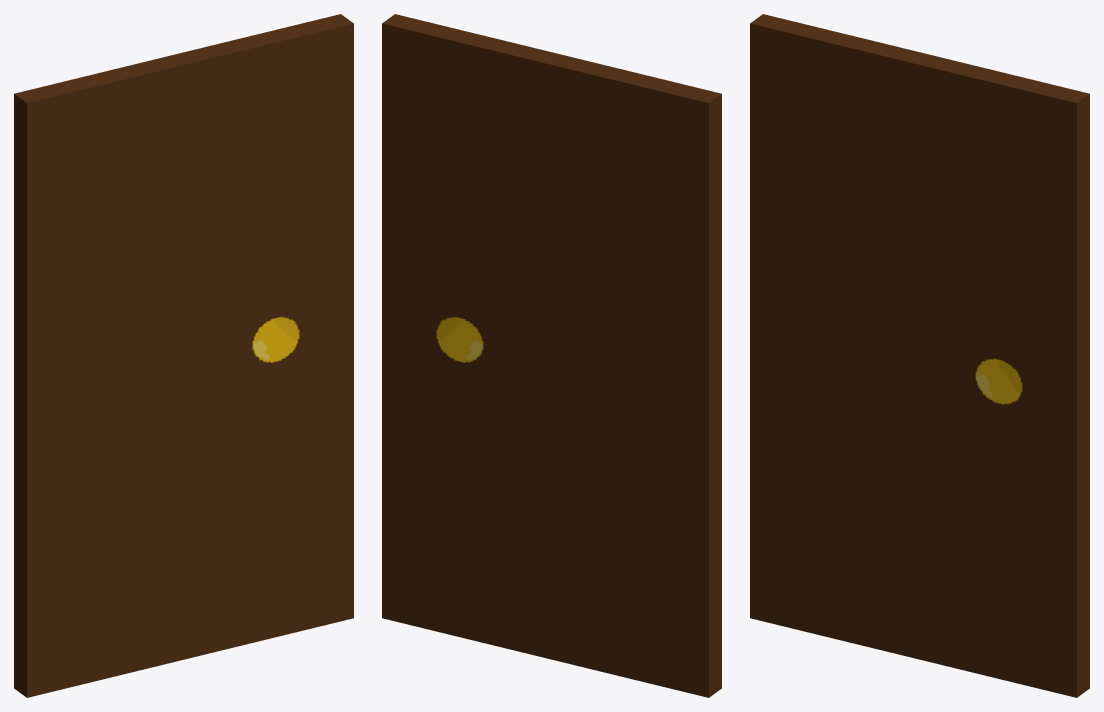
File: door.glb
3 renders of one model, left to right at view 1: azimuth 30°, elevation 25°; view 2: azimuth 150°, elevation 25°; view 3: azimuth 330°, elevation 25°, orthographic.
Parts seen in each view (by area): view 1: Cube; view 2: Cube; view 3: Cube.
Part boxes in pixels (box(x1,y1,x2,y2)): Cube: box(14, 14, 353, 697); Cube: box(382, 14, 721, 697); Cube: box(750, 14, 1089, 697).
Size of the model in its own units: 2.78 by 4.83 by 0.1906.
1 material, 1 textured.
